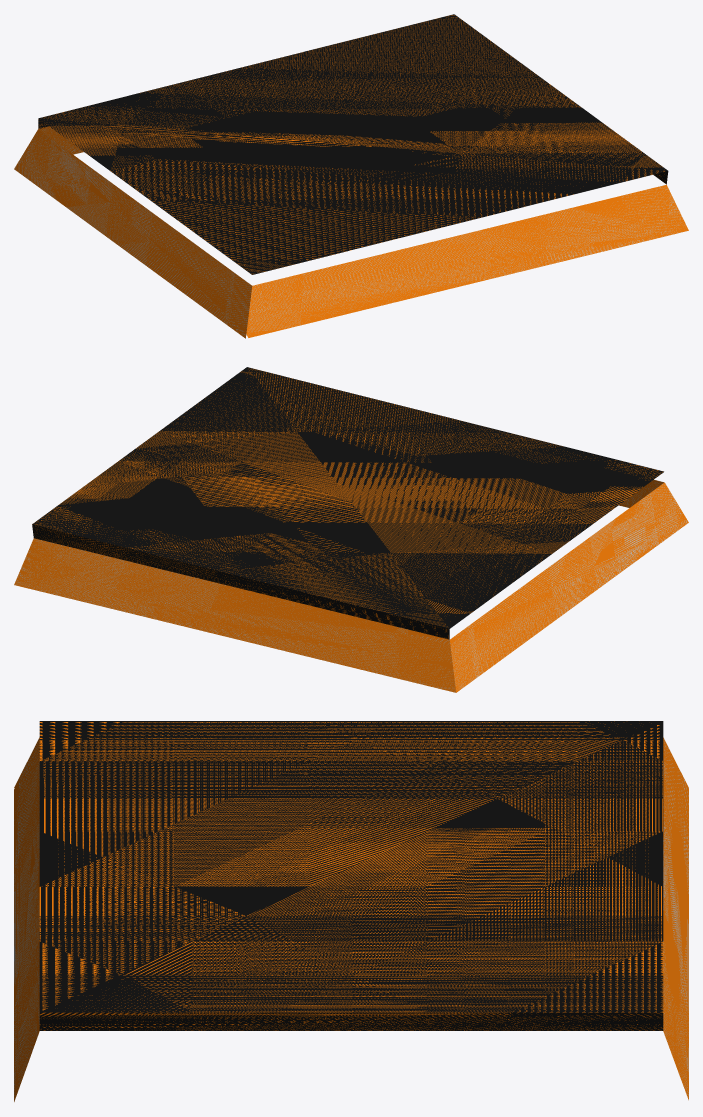
File: original-2.obj
3 renders of one model, top to bottom at view 1: azimuth 30°, elevation 25°; view 2: azimuth 150°, elevation 25°; view 3: azimuth 270°, elevation 25°, orthographic. The views are drawn at different scales.
Visible parts, largest first — view 1: tus2/tus/mesh1/mesh1-geometry#mesh1-geometry; view 2: tus2/tus/mesh1/mesh1-geometry#mesh1-geometry; view 3: tus2/tus/mesh1/mesh1-geometry#mesh1-geometry.
Part boxes in pixels (<box>): tus2/tus/mesh1/mesh1-geometry#mesh1-geometry: <box>14,14,688,338</box>; tus2/tus/mesh1/mesh1-geometry#mesh1-geometry: <box>14,367,688,692</box>; tus2/tus/mesh1/mesh1-geometry#mesh1-geometry: <box>14,721,688,1101</box>.
Size of the model in its own units: 0.0476 by 0.00578 by 0.0432.
